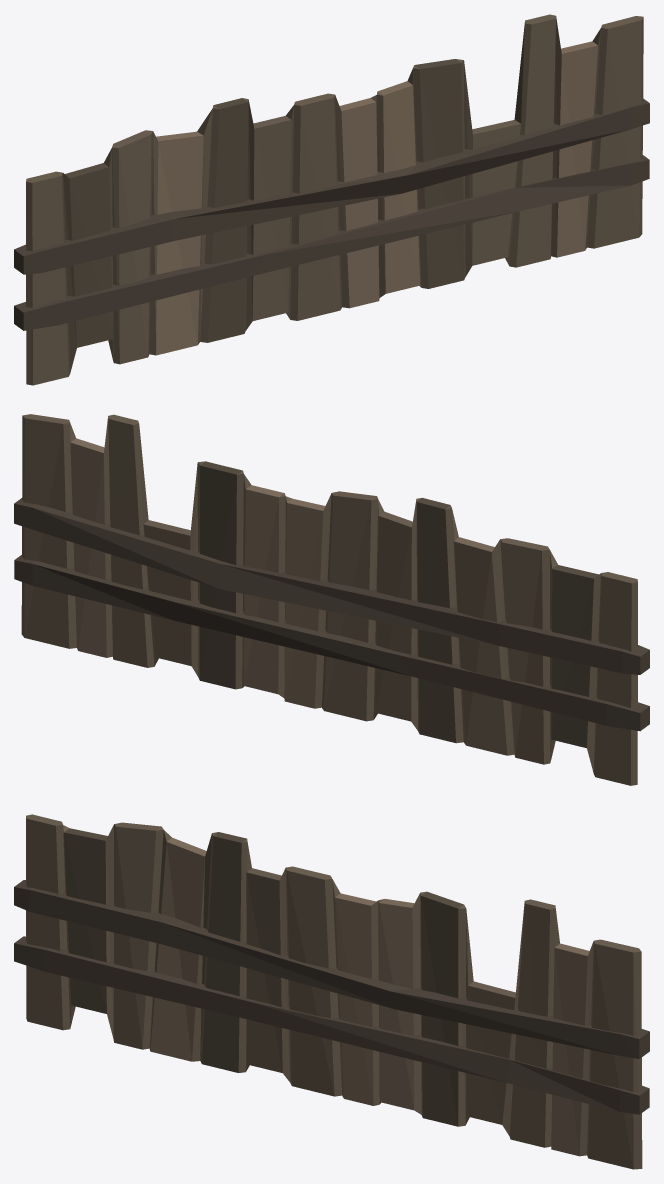
The model's file is SM_Prop_Fence_02.glb.
3 views of the same model, one above another, from view 1: azimuth 30°, elevation 25°; view 2: azimuth 150°, elevation 25°; view 3: azimuth 330°, elevation 25° (orthographic).
Parts seen in each view (by area): view 1: SM_Prop_Fence_02_part00; view 2: SM_Prop_Fence_02_part00; view 3: SM_Prop_Fence_02_part00.
Boxes of the visible parts, <box> form: SM_Prop_Fence_02_part00: <box>14,14,649,385</box>; SM_Prop_Fence_02_part00: <box>14,414,649,785</box>; SM_Prop_Fence_02_part00: <box>14,814,649,1169</box>.
Bounding box in the file's own units: 4.01 × 1.47 × 0.2237.
1 material, 1 textured.
